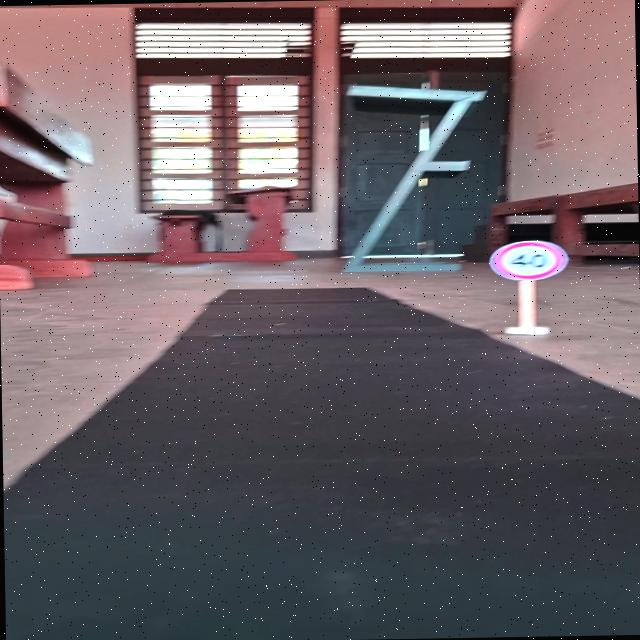Speed40: (486, 238, 572, 282)
